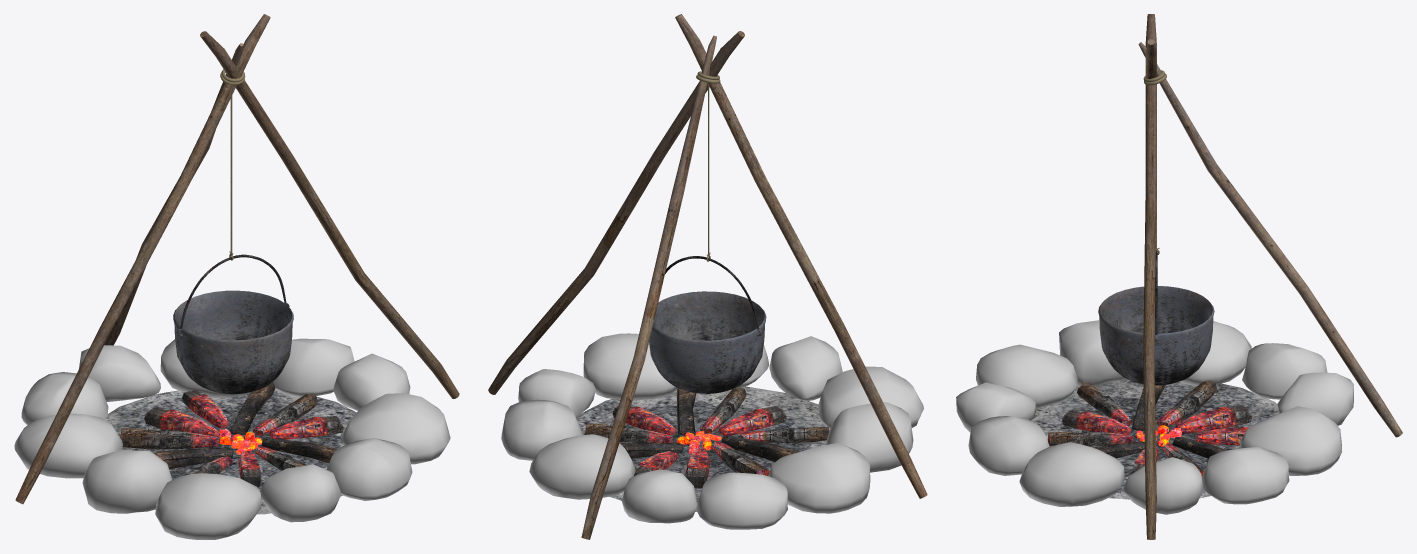
The model's file is camp_fire.fbx.
3 views of the same model, side by side, from view 1: azimuth 30°, elevation 25°; view 2: azimuth 150°, elevation 25°; view 3: azimuth 270°, elevation 25° (orthographic). The views are drawn at different scales.
Visible parts, largest first — view 1: Rocks, woods_and_ground, utensil_and_rope; view 2: Rocks, woods_and_ground, utensil_and_rope; view 3: Rocks, woods_and_ground, utensil_and_rope.
Boxes of the visible parts, bbox=[...] form: Rocks: bbox=[14, 338, 450, 539]; woods_and_ground: bbox=[15, 14, 459, 514]; utensil_and_rope: bbox=[173, 69, 293, 394]; Rocks: bbox=[501, 333, 923, 529]; woods_and_ground: bbox=[488, 14, 927, 539]; utensil_and_rope: bbox=[649, 71, 766, 393]; Rocks: bbox=[956, 320, 1353, 514]; woods_and_ground: bbox=[1031, 14, 1402, 539]; utensil_and_rope: bbox=[1098, 70, 1214, 385].
Size of the model in its own units: 24.56 by 22.84 by 22.32.
